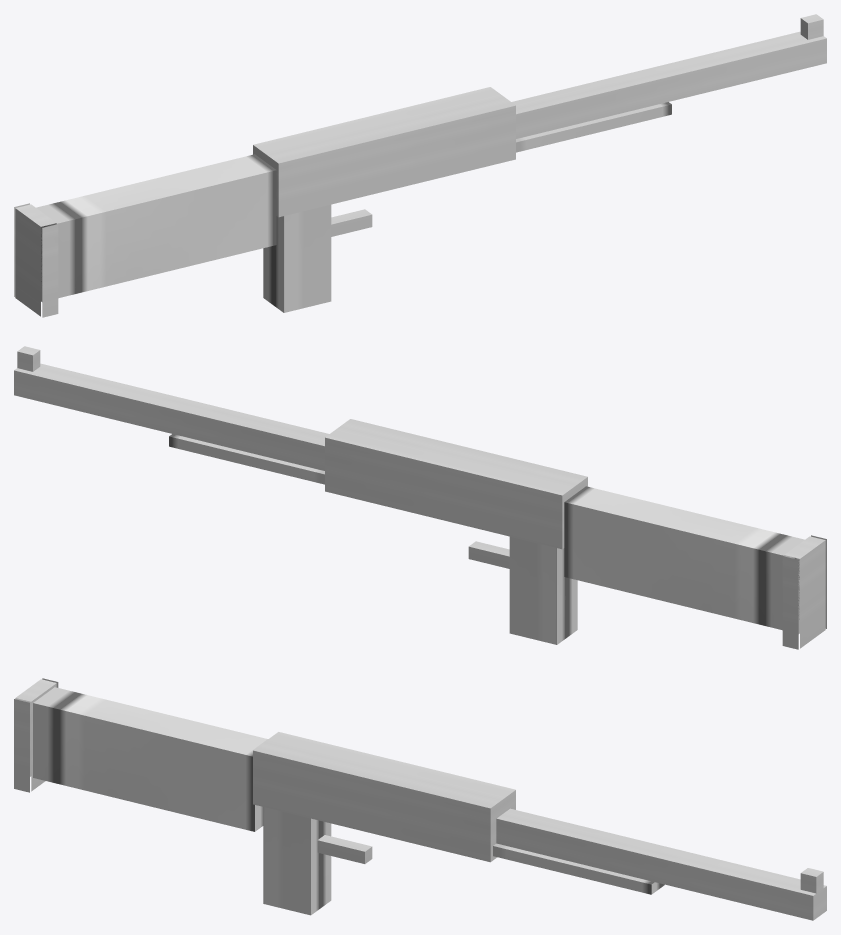
File: bolt_rifle.obj
The picture shows the model from 3 angles, top to bottom: view 1: azimuth 30°, elevation 25°; view 2: azimuth 150°, elevation 25°; view 3: azimuth 330°, elevation 25°; orthographic projection.
Visible parts, largest first — view 1: bolt_rifle; view 2: bolt_rifle; view 3: bolt_rifle.
Part boxes in pixels (left/top/right/bottom): bolt_rifle: left=14, top=14, right=826, bottom=317; bolt_rifle: left=14, top=346, right=826, bottom=649; bolt_rifle: left=14, top=678, right=826, bottom=920.
Size of the model in its own units: 1 by 0.1875 by 0.062.
